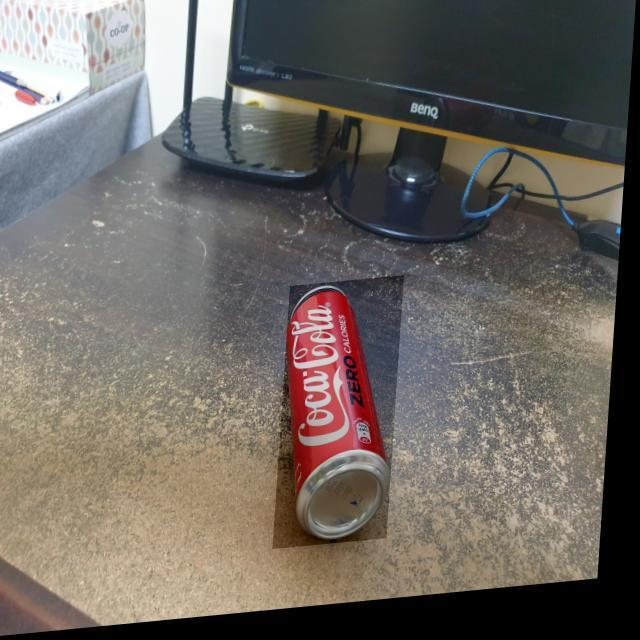trash: (274, 282, 396, 546)
